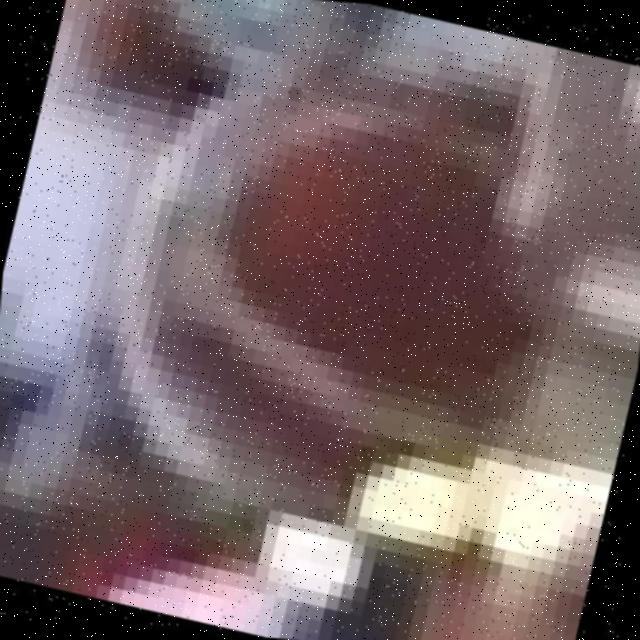ball: (39, 0, 629, 618)
